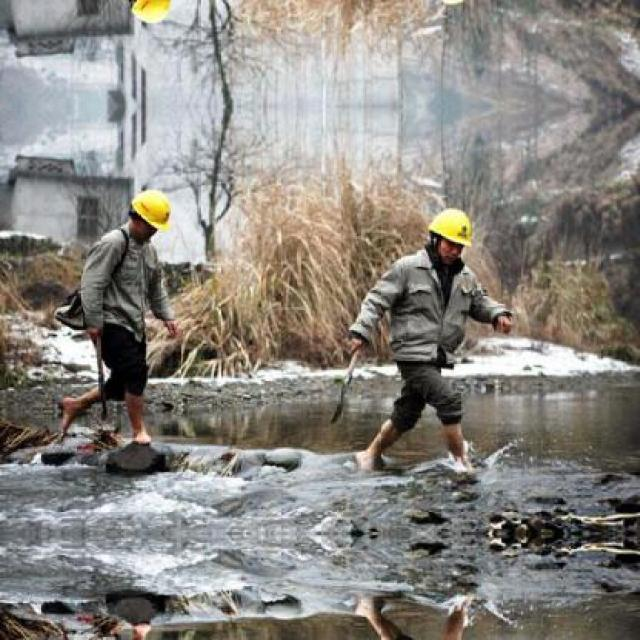helmet: (424, 203, 474, 264), (122, 183, 173, 241), (121, 0, 174, 31)
